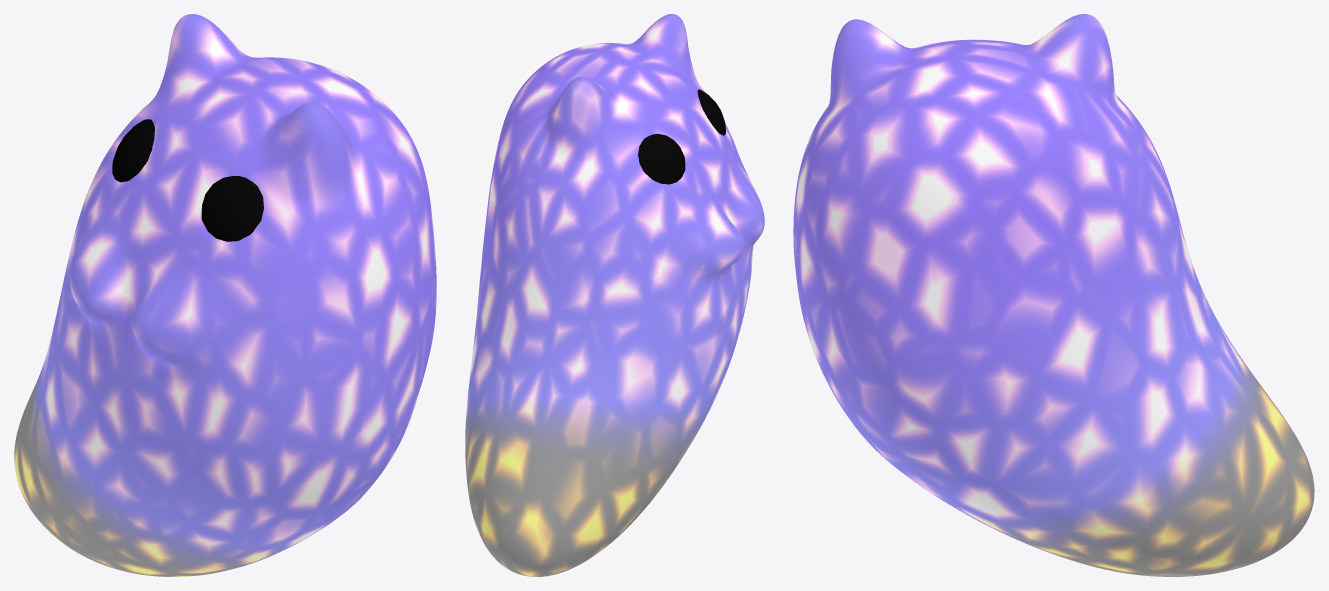
Rendered from gost_Purple.glb.
The picture shows the model from 3 angles, left to right: view 1: azimuth 30°, elevation 25°; view 2: azimuth 150°, elevation 25°; view 3: azimuth 270°, elevation 25°; orthographic projection. The views are drawn at different scales.
Visible parts, largest first — view 1: Quad Sphere, Sphère.001, Sphère; view 2: Quad Sphere, Sphère, Sphère.001; view 3: Quad Sphere.
Part boxes in pixels (<box>): Quad Sphere: <box>14,14,436,576</box>; Sphère.001: <box>201,176,263,241</box>; Sphère: <box>112,119,154,182</box>; Quad Sphere: <box>465,14,764,576</box>; Sphère: <box>638,133,685,184</box>; Sphère.001: <box>697,89,725,135</box>; Quad Sphere: <box>793,14,1314,576</box>.
Bounding box in the file's own units: 1.95 × 3.46 × 2.93.
Materials: 2 (1 with a texture image).
